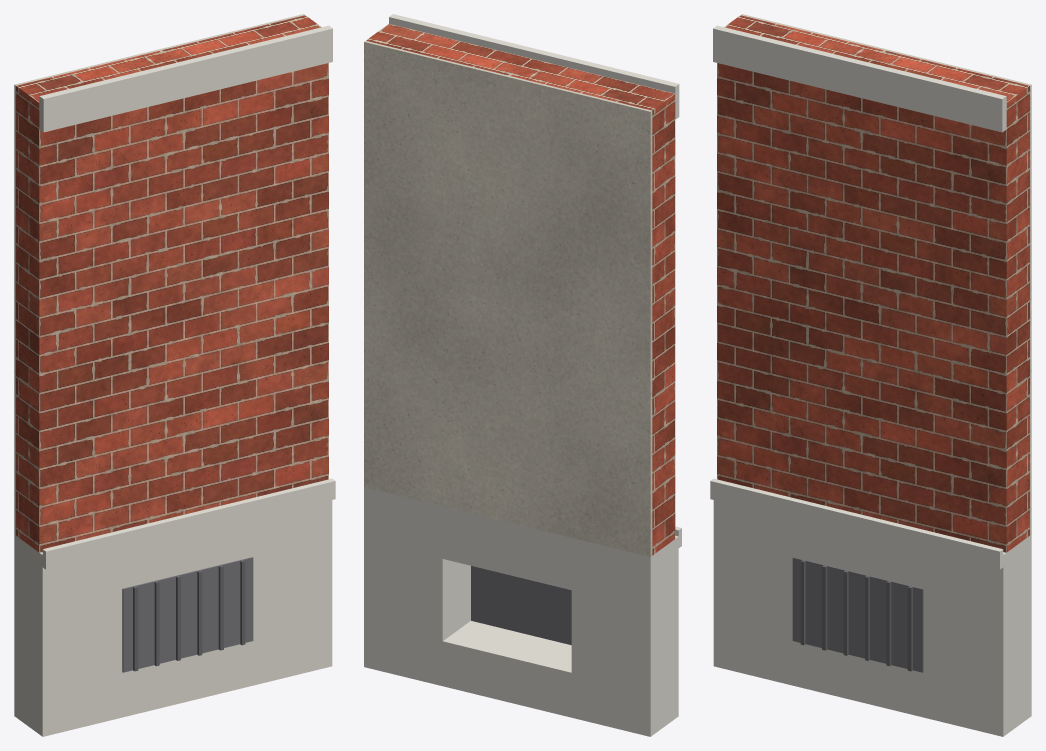
File: wall_a0_plain.glb
3 renders of one model, left to right at view 1: azimuth 30°, elevation 25°; view 2: azimuth 150°, elevation 25°; view 3: azimuth 330°, elevation 25°, orthographic.
Visible parts, largest first — view 1: wall_a0_plain_brick, wall_a0_plain_lime, wall_a0_plain_dark, wall_a0_plain_iron, wall_a0_plain_plaster; view 2: wall_a0_plain_plaster, wall_a0_plain_lime, wall_a0_plain_brick, wall_a0_plain_dark; view 3: wall_a0_plain_brick, wall_a0_plain_lime, wall_a0_plain_dark, wall_a0_plain_iron, wall_a0_plain_plaster.
Part boxes in pixels (box(x1,y1,x2,y2)): wall_a0_plain_brick: box(16, 15, 328, 552); wall_a0_plain_lime: box(14, 25, 335, 736); wall_a0_plain_dark: box(122, 557, 253, 672); wall_a0_plain_iron: box(133, 560, 245, 671); wall_a0_plain_plaster: box(14, 14, 304, 535); wall_a0_plain_plaster: box(364, 41, 652, 556); wall_a0_plain_lime: box(364, 14, 681, 736); wall_a0_plain_brick: box(366, 24, 675, 555); wall_a0_plain_dark: box(471, 566, 571, 645); wall_a0_plain_brick: box(717, 15, 1029, 552); wall_a0_plain_lime: box(710, 25, 1031, 736); wall_a0_plain_dark: box(792, 557, 923, 672); wall_a0_plain_iron: box(800, 560, 912, 671); wall_a0_plain_plaster: box(741, 14, 1031, 535).
Bounding box in the file's own units: 2 × 4.22 × 0.38.
5 materials, 2 textured.
